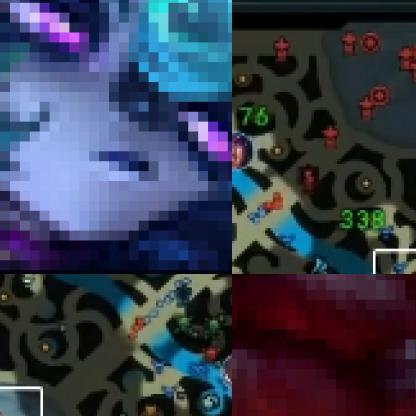Lucian: (223, 353, 231, 391)
Ornn: (232, 274, 415, 415)
Syndra: (232, 129, 255, 169)
Vex: (0, 0, 231, 273)
